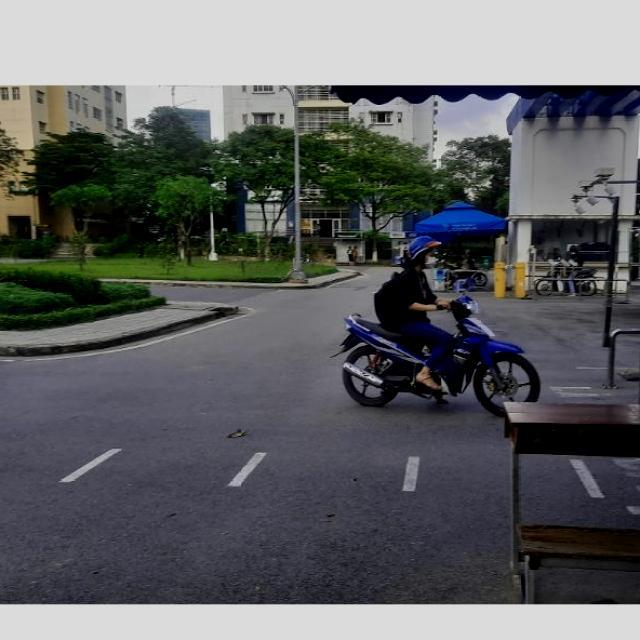Helmet: (409, 236, 441, 270)
